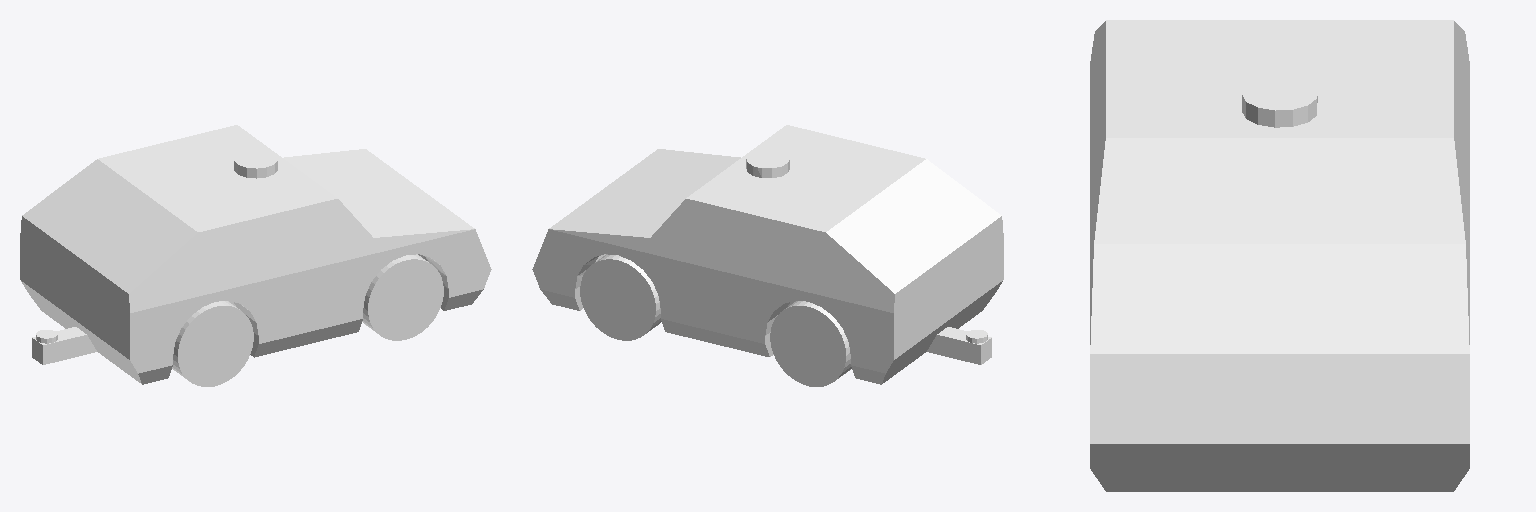
robot.urdf — team_car:
<?xml version="1.0" encoding="utf-8"?>
<!-- This URDF was automatically created by SolidWorks to URDF Exporter! Originally created by Stephen Brawner (brawner@gmail.com) 
     Commit Version: 1.6.0-4-g7f85cfe  Build Version: 1.6.7995.38578
     For more information, please see http://wiki.ros.org/sw_urdf_exporter -->
<robot
  name="team_car">
  <link
    name="base_link">
    <inertial>
      <origin
        xyz="-0.0087452750932692 3.35383570956894E-10 0.0553719372233439"
        rpy="0 0 0" />
      <mass
        value="2.67013965482814" />
      <inertia
        ixx="0.00556607168399937"
        ixy="-1.48550899208538E-10"
        ixz="0.000800576850897462"
        iyy="0.0146376832128115"
        iyz="4.41242057471814E-11"
        izz="0.0166080016596797" />
    </inertial>
    <visual>
      <origin
        xyz="0 0 0"
        rpy="0 0 0" />
      <geometry>
        <mesh
          filename="package://team_car_description/meshes/base_link.STL" />
      </geometry>
      <material
        name="">
        <color
          rgba="1 1 1 1" />
      </material>
    </visual>
    <collision>
      <origin
        xyz="0 0 0"
        rpy="0 0 0" />
      <geometry>
        <mesh
          filename="package://team_car_description/meshes/base_link.STL" />
      </geometry>
    </collision>
  </link>
  <link
    name="front_left_steer">
    <inertial>
      <origin
        xyz="6.84627940450433E-09 0.00177583874781438 7.0047269181972E-06"
        rpy="0 0 0" />
      <mass
        value="0.000591397328739017" />
      <inertia
        ixx="1.40323298869158E-08"
        ixy="3.93116130408378E-14"
        ixz="-9.96748914156153E-14"
        iyy="9.53379977971968E-09"
        iyz="-4.898220030663E-14"
        izz="1.16380137611285E-08" />
    </inertial>
    <visual>
      <origin
        xyz="0 0 0"
        rpy="0 0 0" />
      <geometry>
        <mesh
          filename="package://team_car_description/meshes/front_left_steer.STL" />
      </geometry>
      <material
        name="">
        <color
          rgba="1 1 1 1" />
      </material>
    </visual>
    <collision>
      <origin
        xyz="0 0 0"
        rpy="0 0 0" />
      <geometry>
        <mesh
          filename="package://team_car_description/meshes/front_left_steer.STL" />
      </geometry>
    </collision>
  </link>
  <joint
    name="fls_joint"
    type="revolute">
    <origin
      xyz="0.076091 0.059588 0.028042"
      rpy="0 0 0" />
    <parent
      link="base_link" />
    <child
      link="front_left_steer" />
    <axis
      xyz="0 0 1" />
    <limit
      lower="-0.7854"
      upper="0.7854"
      effort="400"
      velocity="16.0" />
  </joint>
  <link
    name="front_left_drive">
    <inertial>
      <origin
        xyz="0 0 0.003723"
        rpy="0 0 0" />
      <mass
        value="0.020949" />
      <inertia
        ixx="6.5615E-06"
        ixy="-2.7161E-22"
        ixz="-4.6794E-22"
        iyy="6.5615E-06"
        iyz="6.0896E-23"
        izz="1.1496E-05" />
    </inertial>
    <visual>
      <origin
        xyz="0 0 0"
        rpy="0 0 0" />
      <geometry>
        <mesh
          filename="package://team_car_description/meshes/front_left_drive.STL" />
      </geometry>
      <material
        name="">
        <color
          rgba="1 1 1 1" />
      </material>
    </visual>
    <collision>
      <origin
        xyz="0 0 0"
        rpy="0 0 0" />
      <geometry>
        <mesh
          filename="package://team_car_description/meshes/front_left_drive.STL" />
      </geometry>
    </collision>
  </link>
  <joint
    name="fld_joint"
    type="continuous">
    <origin
      xyz="0 0.0070104 0"
      rpy="1.5708 0 0" />
    <parent
      link="front_left_steer" />
    <child
      link="front_left_drive" />
    <axis
      xyz="0 0 1" />
  </joint>
  <link
    name="front_right_steer">
    <inertial>
      <origin
        xyz="-6.84628144453914E-09 -0.00177583874781488 7.00472691822496E-06"
        rpy="0 0 0" />
      <mass
        value="0.000591397328739017" />
      <inertia
        ixx="1.40323298869158E-08"
        ixy="3.93116130320776E-14"
        ixz="9.96748914164301E-14"
        iyy="9.53379977971969E-09"
        iyz="4.89822002864024E-14"
        izz="1.16380137611285E-08" />
    </inertial>
    <visual>
      <origin
        xyz="0 0 0"
        rpy="0 0 0" />
      <geometry>
        <mesh
          filename="package://team_car_description/meshes/front_right_steer.STL" />
      </geometry>
      <material
        name="">
        <color
          rgba="1 1 1 1" />
      </material>
    </visual>
    <collision>
      <origin
        xyz="0 0 0"
        rpy="0 0 0" />
      <geometry>
        <mesh
          filename="package://team_car_description/meshes/front_right_steer.STL" />
      </geometry>
    </collision>
  </link>
  <joint
    name="frs_joint"
    type="revolute">
    <origin
      xyz="0.076091 -0.059588 0.028042"
      rpy="0 0 0" />
    <parent
      link="base_link" />
    <child
      link="front_right_steer" />
    <axis
      xyz="0 0 1" />
    <limit
      lower="-0.7854"
      upper="0.7854"
      effort="400"
      velocity="16.0" />
  </joint>
  <link
    name="front_right_drive">
    <inertial>
      <origin
        xyz="-6.93889390390723E-18 0 -0.00372297917417092"
        rpy="0 0 0" />
      <mass
        value="0.020949347739321" />
      <inertia
        ixx="6.56151326213766E-06"
        ixy="-3.66211426251759E-22"
        ixz="-7.68067323286438E-23"
        iyy="6.56151326213766E-06"
        iyz="3.04658669838996E-23"
        izz="1.14960324396082E-05" />
    </inertial>
    <visual>
      <origin
        xyz="0 0 0"
        rpy="0 0 0" />
      <geometry>
        <mesh
          filename="package://team_car_description/meshes/front_right_drive.STL" />
      </geometry>
      <material
        name="">
        <color
          rgba="1 1 1 1" />
      </material>
    </visual>
    <collision>
      <origin
        xyz="0 0 0"
        rpy="0 0 0" />
      <geometry>
        <mesh
          filename="package://team_car_description/meshes/front_right_drive.STL" />
      </geometry>
    </collision>
  </link>
  <joint
    name="frd_joint"
    type="continuous">
    <origin
      xyz="0 -0.0070104 0"
      rpy="1.5708 0 0" />
    <parent
      link="front_right_steer" />
    <child
      link="front_right_drive" />
    <axis
      xyz="0 0 -1" />
  </joint>
  <link
    name="rear_left_drive">
    <inertial>
      <origin
        xyz="5.55111512312578E-17 0 0.00828560712443368"
        rpy="0 0 0" />
      <mass
        value="0.0236803343805238" />
      <inertia
        ixx="6.98574043333613E-06"
        ixy="-1.04037684408603E-37"
        ixz="-7.72920177020811E-24"
        iyy="6.98574043333612E-06"
        iyz="3.44713884325426E-38"
        izz="1.15429538496757E-05" />
    </inertial>
    <visual>
      <origin
        xyz="0 0 0"
        rpy="0 0 0" />
      <geometry>
        <mesh
          filename="package://team_car_description/meshes/rear_left_drive.STL" />
      </geometry>
      <material
        name="">
        <color
          rgba="1 1 1 1" />
      </material>
    </visual>
    <collision>
      <origin
        xyz="0 0 0"
        rpy="0 0 0" />
      <geometry>
        <mesh
          filename="package://team_car_description/meshes/rear_left_drive.STL" />
      </geometry>
    </collision>
  </link>
  <joint
    name="rld_joint"
    type="continuous">
    <origin
      xyz="-0.064117 0.070104 0.028042"
      rpy="1.5708 0 0" />
    <parent
      link="base_link" />
    <child
      link="rear_left_drive" />
    <axis
      xyz="0 0 1" />
  </joint>
  <link
    name="rear_right_drive">
    <inertial>
      <origin
        xyz="-5.55111512312578E-17 0 -0.00828560712443369"
        rpy="0 0 0" />
      <mass
        value="0.0236803343805238" />
      <inertia
        ixx="6.98574043333613E-06"
        ixy="1.66686732850355E-21"
        ixz="-3.20594355182772E-23"
        iyy="6.98574043333613E-06"
        iyz="-2.6260271562932E-23"
        izz="1.15429538496757E-05" />
    </inertial>
    <visual>
      <origin
        xyz="0 0 0"
        rpy="0 0 0" />
      <geometry>
        <mesh
          filename="package://team_car_description/meshes/rear_right_drive.STL" />
      </geometry>
      <material
        name="">
        <color
          rgba="1 1 1 1" />
      </material>
    </visual>
    <collision>
      <origin
        xyz="0 0 0"
        rpy="0 0 0" />
      <geometry>
        <mesh
          filename="package://team_car_description/meshes/rear_right_drive.STL" />
      </geometry>
    </collision>
  </link>
  <joint
    name="rrd_joint"
    type="continuous">
    <origin
      xyz="-0.064117 -0.070104 0.028042"
      rpy="1.5708 0 0" />
    <parent
      link="base_link" />
    <child
      link="rear_right_drive" />
    <axis
      xyz="0 0 -1" />
  </joint>

  <ros2_control name="GazeboSimSystem" type="system">
    <hardware>
      <plugin>gz_ros2_control/GazeboSimSystem</plugin>
    </hardware>

    <joint name="fls_joint">
      <command_interface name="position" />
      <state_interface name="position" />
      <state_interface name="velocity" />
    </joint>
    <joint name="frs_joint">
      <command_interface name="position" />
      <state_interface name="position" />
      <state_interface name="velocity" />
    </joint>
    <joint name="fld_joint">
      <state_interface name="position" />
      <state_interface name="velocity" />
    </joint>
    <joint name="frd_joint">
      <state_interface name="position" />
      <state_interface name="velocity" />
    </joint>
    <joint name="rld_joint">
      <command_interface name="velocity" />
      <state_interface name="position" />
      <state_interface name="velocity" />
    </joint>
    <joint name="rrd_joint">
      <command_interface name="velocity" />
      <state_interface name="position" />
      <state_interface name="velocity" />
    </joint>
  </ros2_control>

  <gazebo>
    <plugin filename="ign_ros2_control-system" name="gz_ros2_control::GazeboSimROS2ControlPlugin">
      <parameters>/tmp/team_car_ros2_control.yaml</parameters>
    </plugin>
  </gazebo>
</robot>

--- Facts derived from the render (not from the file) ---
Views: 3 orthographic renders of the robot side by side, from view 1: azimuth 30°, elevation 25°; view 2: azimuth 150°, elevation 25°; view 3: azimuth 270°, elevation 25°.
Robot: team_car — 7 links, 6 joints (2 revolute, 4 continuous); root link base_link; default pose: every joint at zero.
Links seen in each view (by area): view 1: base_link, front_right_drive, rear_right_drive; view 2: base_link, front_left_drive, rear_left_drive; view 3: base_link.
Boxes of the visible links, x1,y1,x2,y2 form: base_link: (20, 125, 491, 384); front_right_drive: (362, 254, 443, 340); rear_right_drive: (172, 301, 253, 386); base_link: (532, 125, 1003, 384); front_left_drive: (580, 254, 661, 340); rear_left_drive: (770, 301, 851, 386); base_link: (1090, 20, 1469, 491).
Bounding box of the posed robot: 0.2944 × 0.1402 × 0.1152 m (x, y, z).
Meshes: 7 distinct files referenced, 7 mesh visuals loaded (7 binary STL).
